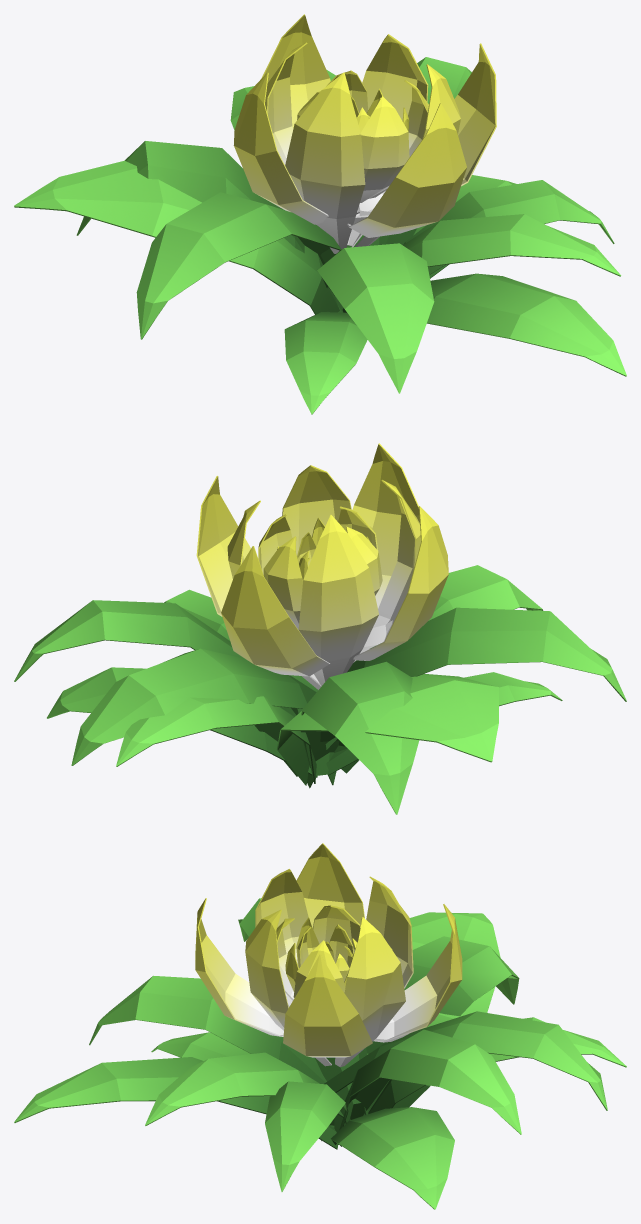
The model's file is 1FlorBaixa.fbx.
3 renders of one model, top to bottom at view 1: azimuth 30°, elevation 25°; view 2: azimuth 150°, elevation 25°; view 3: azimuth 270°, elevation 25°, orthographic. The views are drawn at different scales.
Parts seen in each view (by area): view 1: 1florBaixa; view 2: 1florBaixa; view 3: 1florBaixa.
Part boxes in pixels (bbox=[...]): 1florBaixa: bbox=[14, 14, 626, 414]; 1florBaixa: bbox=[14, 443, 626, 814]; 1florBaixa: bbox=[14, 843, 626, 1209].
Bounding box in the file's own units: 106 × 61.71 × 127.
